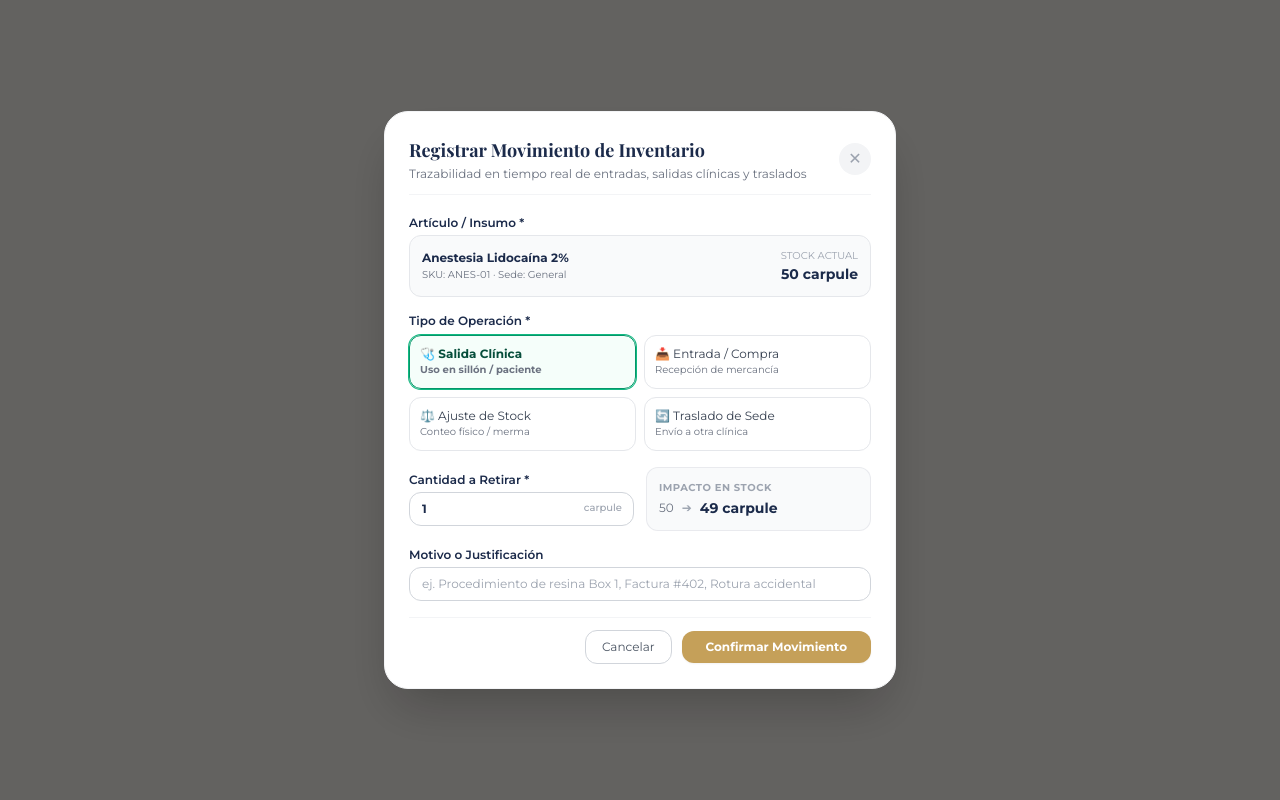
Test: InventoryMovementModal › calculates projected stock when quantity is entered
The width and height of the screenshot is (1280, 800).
Default operation is exit_clinical (Salida Clínica)
Replace the text in the number field with "5" at {"x": 522, "y": 509}, box [409,492,634,526]
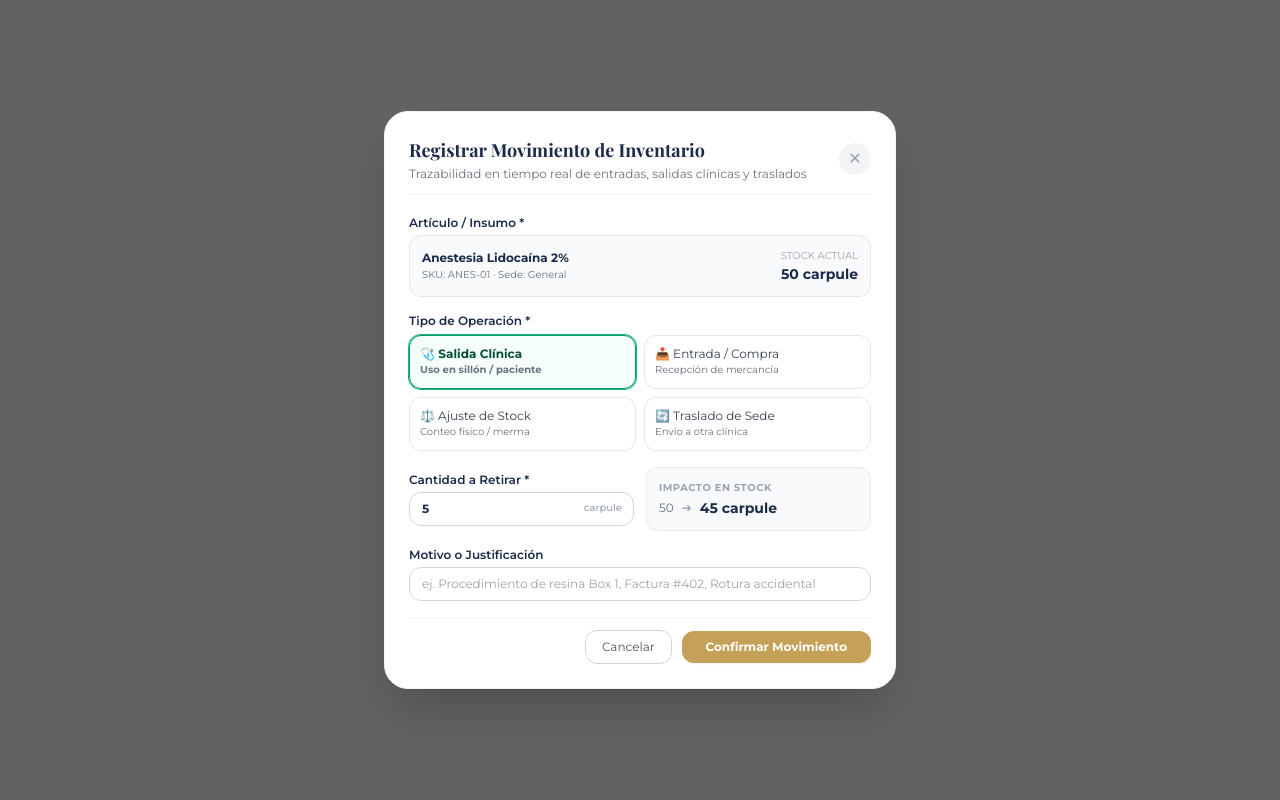
Expected: the text "45 carpule" is shown, [700,498,777,518]
